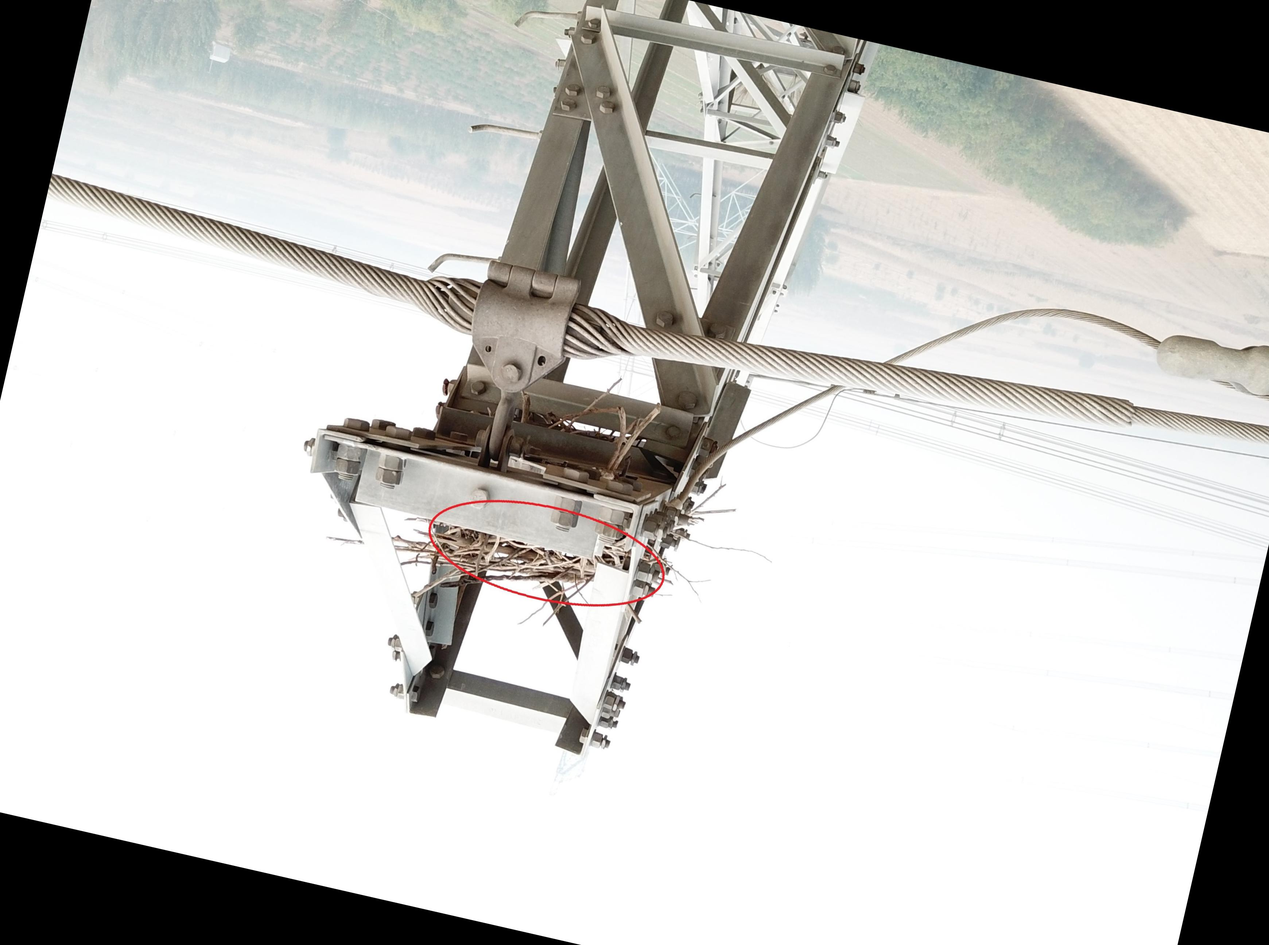damper: (1132, 308, 1269, 492)
